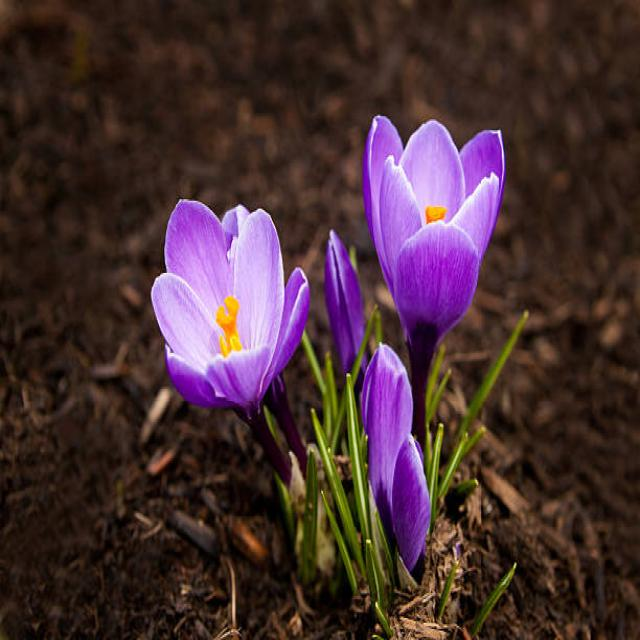saffron open: (365, 116, 504, 441), (151, 201, 309, 484)
